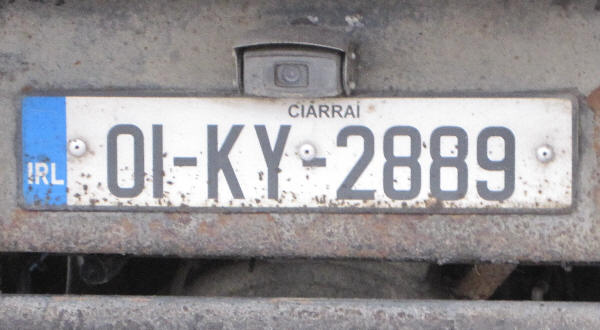license_plate: (17, 90, 577, 215)
